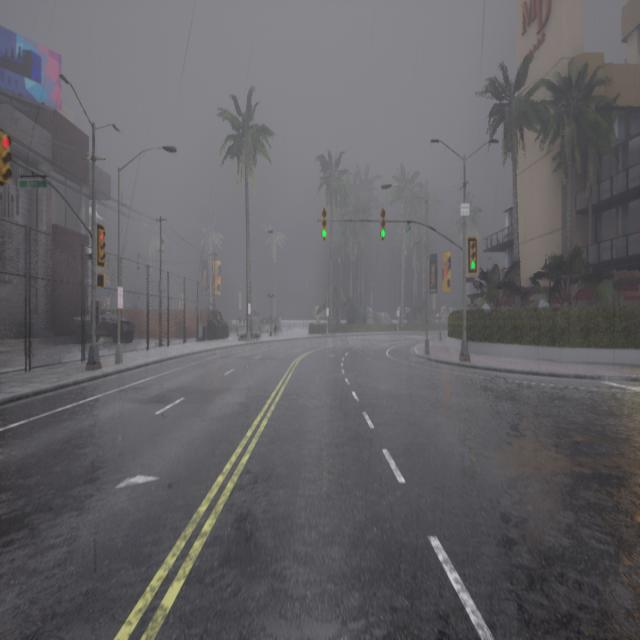6: (96, 224, 106, 245), (2, 135, 11, 151)
9: (0, 125, 12, 188), (94, 224, 108, 273), (468, 236, 480, 278), (318, 202, 328, 242), (379, 204, 387, 242)
bien_hieu_lenh: (316, 228, 328, 240), (467, 260, 475, 269), (380, 230, 386, 240)
